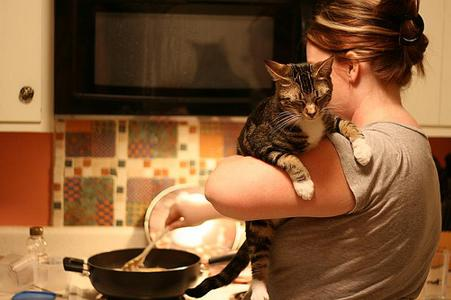person: (165, 1, 442, 300)
